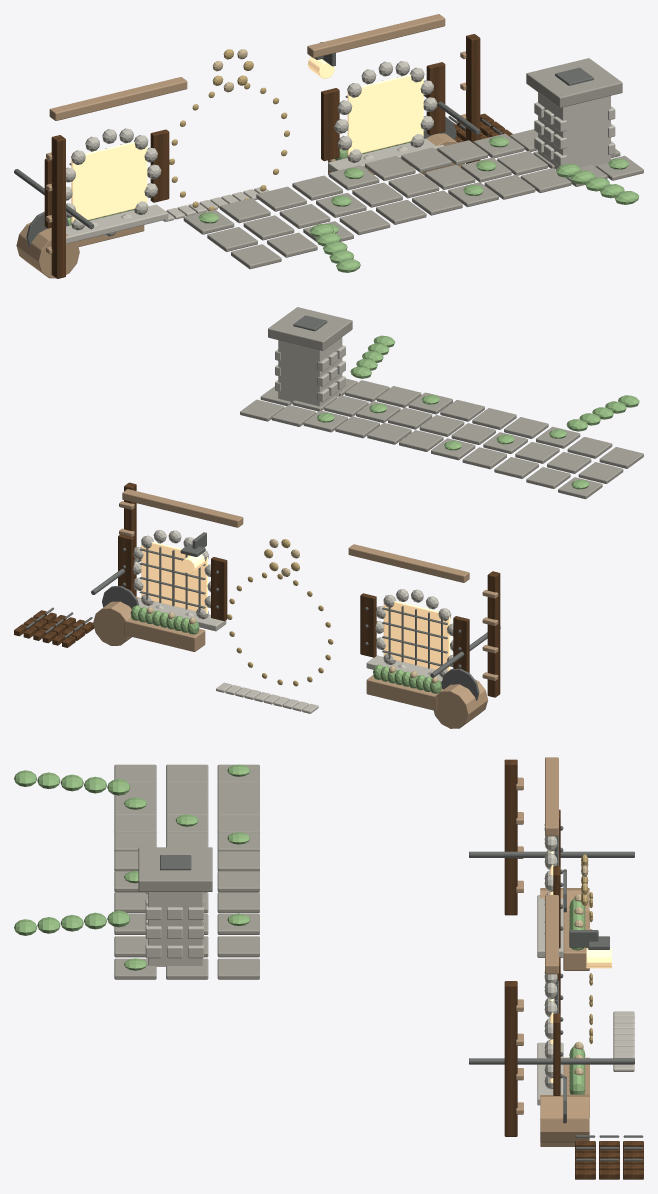
The model's file is shire_west_row_cottage_craftwork.glb.
3 renders of one model, top to bottom at view 1: azimuth 30°, elevation 25°; view 2: azimuth 150°, elevation 25°; view 3: azimuth 270°, elevation 25°, orthographic. The views are drawn at different scales.
Parts seen in each view (by area): view 1: Art_roof_slate, Art_rounded_fieldstone, Art_amber_glass, Art_oak_grain_original, Art_weathered_wood, Art_ivy_and_herbs, Art_forged_iron, Art_warm_brass; view 2: Art_roof_slate, Art_weathered_wood, Art_rounded_fieldstone, Art_oak_grain_original, Art_amber_glass, Art_forged_iron, Art_ivy_and_herbs, Art_warm_brass; view 3: Art_roof_slate, Art_rounded_fieldstone, Art_oak_grain_original, Art_weathered_wood, Art_ivy_and_herbs, Art_forged_iron, Art_amber_glass.
Boxes of the visible parts, <box> form: Art_roof_slate: <box>183,58,643,269</box>; Art_rounded_fieldstone: <box>66,61,615,243</box>; Art_amber_glass: <box>71,57,423,222</box>; Art_oak_grain_original: <box>44,34,512,278</box>; Art_weathered_wood: <box>16,14,466,278</box>; Art_ivy_and_herbs: <box>67,136,639,272</box>; Art_forged_iron: <box>14,42,593,246</box>; Art_warm_brass: <box>169,49,289,210</box>; Art_roof_slate: <box>240,307,643,499</box>; Art_weathered_wood: <box>93,489,498,728</box>; Art_rounded_fieldstone: <box>133,337,453,713</box>; Art_oak_grain_original: <box>14,482,500,697</box>; Art_amber_glass: <box>141,542,450,670</box>; Art_forged_iron: <box>26,315,500,700</box>; Art_ivy_and_herbs: <box>130,335,639,693</box>; Art_warm_brass: <box>227,539,333,686</box>; Art_roof_slate: <box>114,764,259,979</box>; Art_rounded_fieldstone: <box>145,824,634,1105</box>; Art_oak_grain_original: <box>504,759,643,1179</box>; Art_weathered_wood: <box>516,757,589,1146</box>; Art_ivy_and_herbs: <box>14,764,585,1094</box>; Art_forged_iron: <box>160,826,643,1161</box>; Art_amber_glass: <box>550,851,611,1082</box>.
Bounding box in the file's own units: 8.59 × 4.02 × 8.65.
9 materials, 1 textured.
